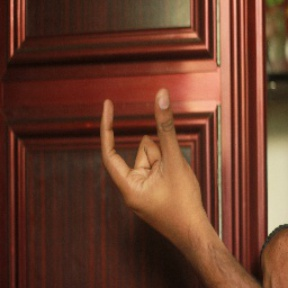U: (88, 81, 198, 211)
